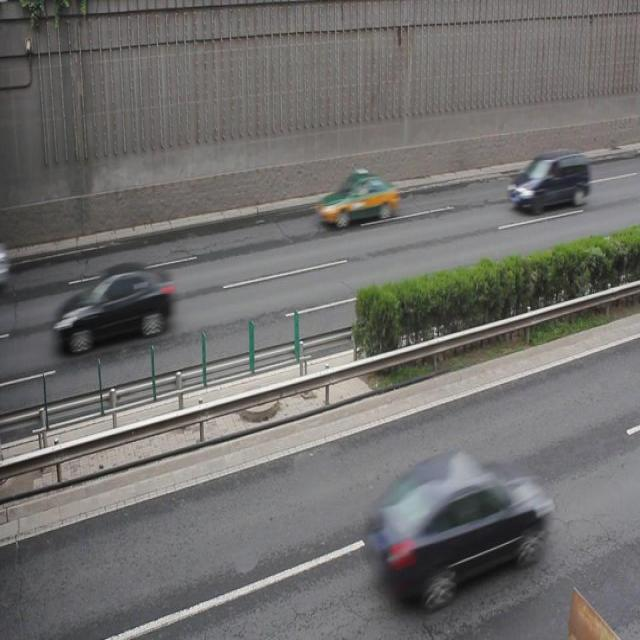car: (53, 262, 175, 351), (314, 171, 399, 227)
truck: (369, 448, 547, 608), (506, 148, 590, 212)
